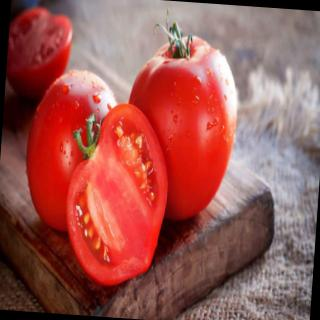Tomat: (120, 8, 245, 227)
